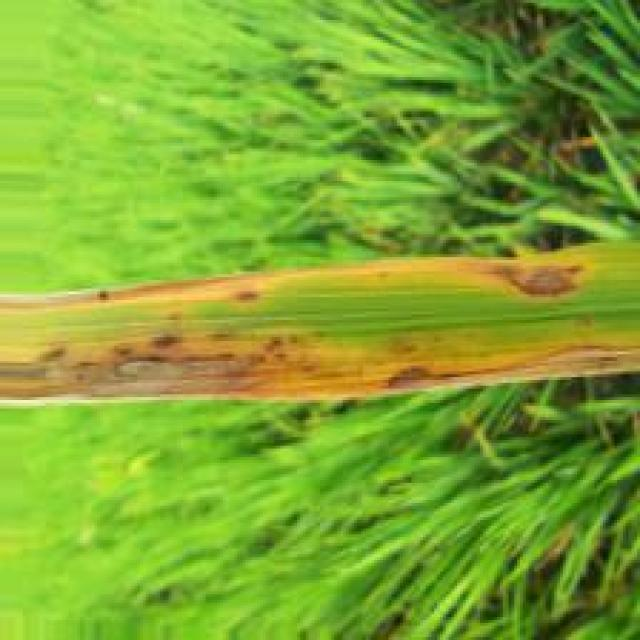Leaf_Blast: (0, 235, 640, 407)
